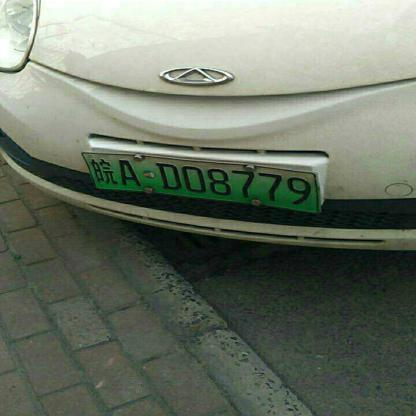lp: (80, 153, 318, 212)
